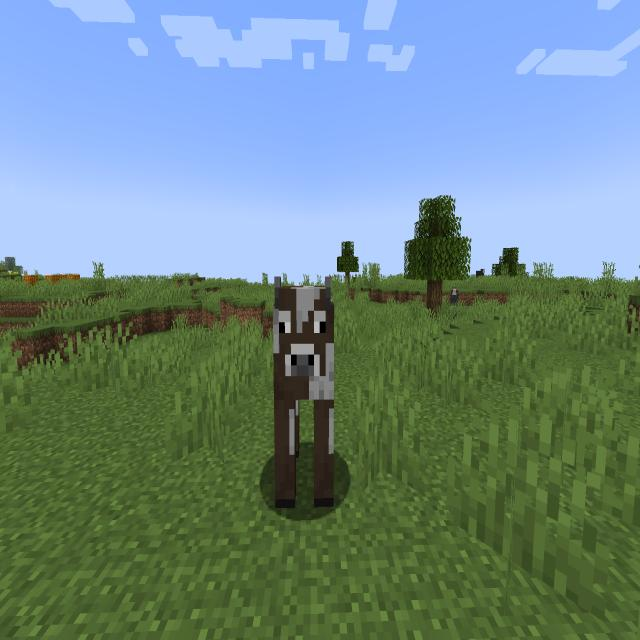cow: (264, 270, 344, 520)
